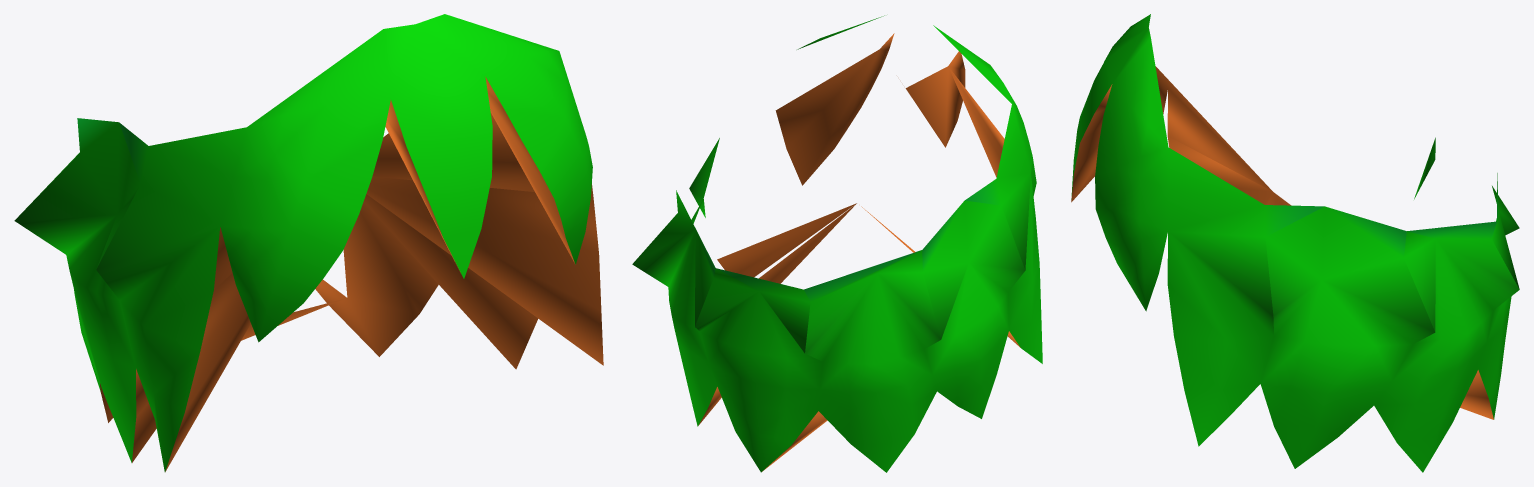
The model's file is Hair2_75.glb.
3 renders of one model, left to right at view 1: azimuth 30°, elevation 25°; view 2: azimuth 150°, elevation 25°; view 3: azimuth 270°, elevation 25°, orthographic. The views are drawn at different scales.
Bounding box in the file's own units: 62.59 × 61.15 × 63.07.
